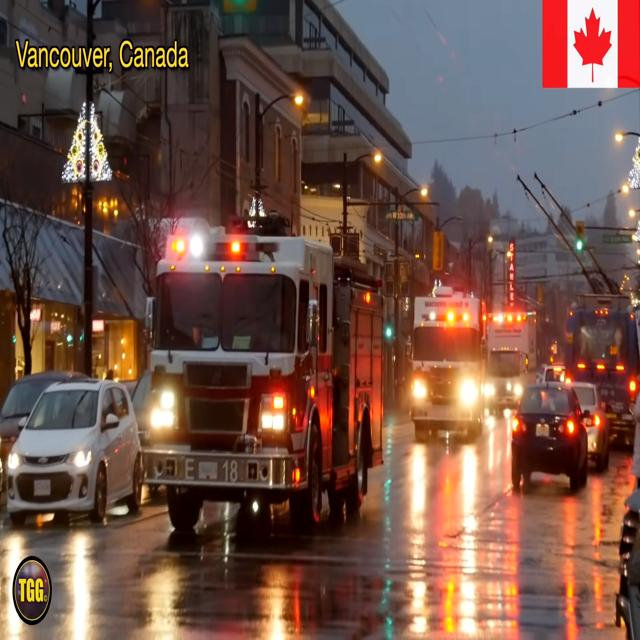emergency-vehicles: (128, 207, 391, 550)
